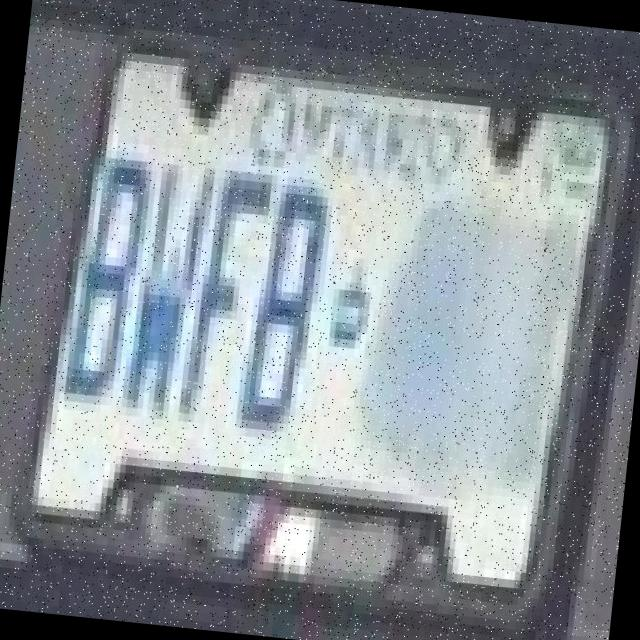LicensePlate: (24, 22, 640, 640)
